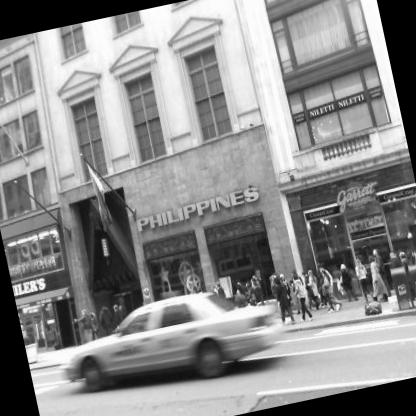truck: (48, 257, 305, 416)
